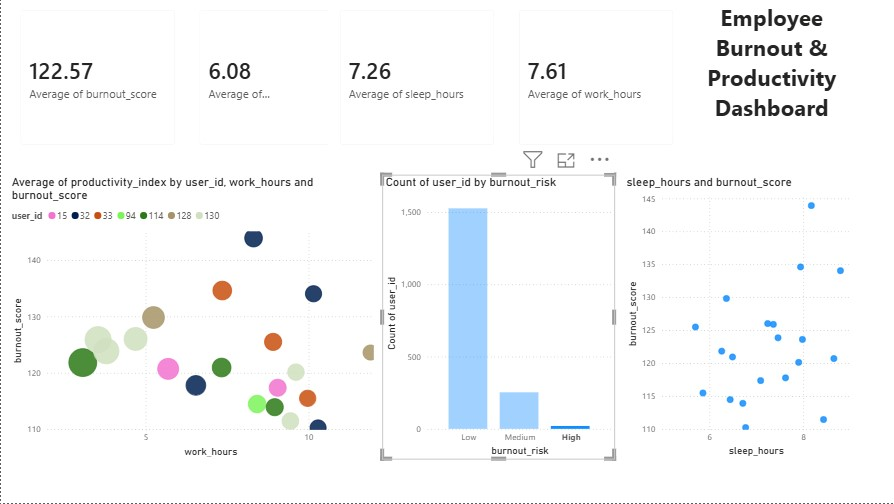

Layout of this report page (visuals, bound fields, positions):
{"tool":"powerbi","page":{"name":"Page 1","canvas":[1280,720],"ordinal":0},"visuals":[{"type":"cardVisual","fields":{"Data":["Avg(burnout_dashboard_data.burnout_score)"]},"box":[10.9,0,254.5,226.2],"z":0},{"type":"cardVisual","fields":{"Data":["Avg(burnout_dashboard_data.productivity_index)"]},"box":[265.4,0,254.5,226.2],"z":1},{"type":"cardVisual","fields":{"Data":["Avg(burnout_dashboard_data.sleep_hours)"]},"box":[465.5,0,254.5,226.2],"z":2},{"type":"cardVisual","fields":{"Data":["Avg(burnout_dashboard_data.work_hours)"]},"box":[720,0,254.5,226.2],"z":3},{"type":"scatterChart","fields":{"X":["burnout_dashboard_data.work_hours"],"Y":["burnout_dashboard_data.burnout_score"],"Size":["Avg(burnout_dashboard_data.productivity_index)"],"Series":["burnout_dashboard_data.user_id"]},"box":[10.9,252.3,532.9,406.8],"z":4},{"type":"clusteredColumnChart","fields":{"Category":["burnout_dashboard_data.burnout_risk"],"Y":["CountNonNull(burnout_dashboard_data.user_id)"]},"box":[543.8,252.3,332.8,406.8],"z":5},{"type":"scatterChart","fields":{"X":["burnout_dashboard_data.sleep_hours"],"Y":["burnout_dashboard_data.burnout_score"]},"box":[887,252,333,407],"z":6},{"type":"textbox","box":[975,0,245,226],"z":7}]}

Visuals, with their boxes in screenshot pixels (x1, y1, x2, y2), scaled from the page's 1280x720 canvas onto the 894x504 screenshot:
cardVisual - Avg(burnout_dashboard_data.burnout_score): (left=8, top=0, right=185, bottom=158)
cardVisual - Avg(burnout_dashboard_data.productivity_index): (left=185, top=0, right=363, bottom=158)
cardVisual - Avg(burnout_dashboard_data.sleep_hours): (left=325, top=0, right=503, bottom=158)
cardVisual - Avg(burnout_dashboard_data.work_hours): (left=503, top=0, right=681, bottom=158)
scatterChart - burnout_dashboard_data.work_hours x burnout_dashboard_data.burnout_score: (left=8, top=177, right=380, bottom=461)
clusteredColumnChart - burnout_dashboard_data.burnout_risk x CountNonNull(burnout_dashboard_data.user_id): (left=380, top=177, right=612, bottom=461)
scatterChart - burnout_dashboard_data.sleep_hours x burnout_dashboard_data.burnout_score: (left=620, top=176, right=852, bottom=461)
textbox: (left=681, top=0, right=852, bottom=158)
